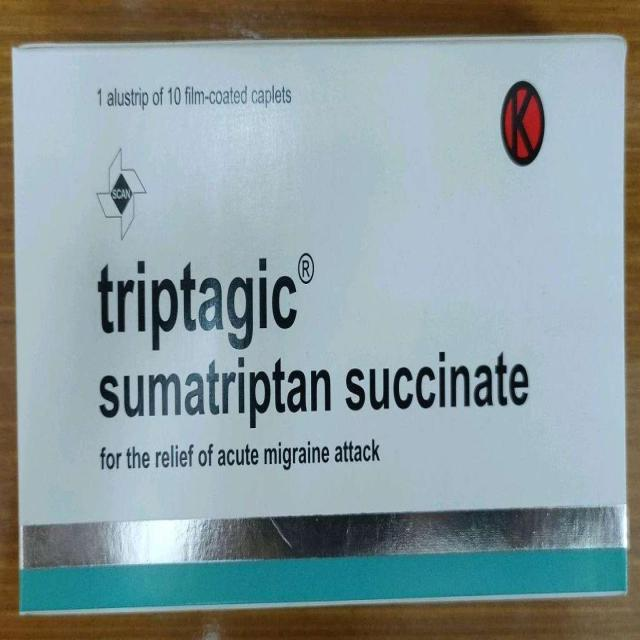drug-name: (95, 256, 298, 350)
